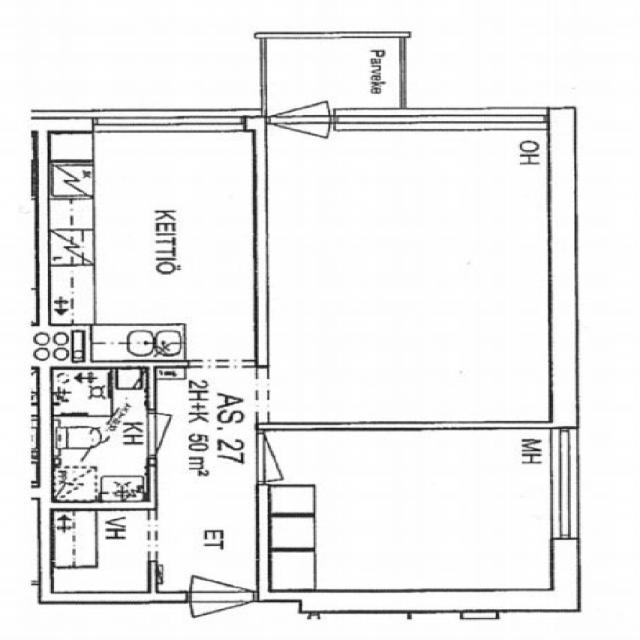door: (190, 542, 250, 604), (255, 433, 328, 481), (271, 116, 329, 171), (271, 70, 329, 124), (148, 413, 208, 454)
